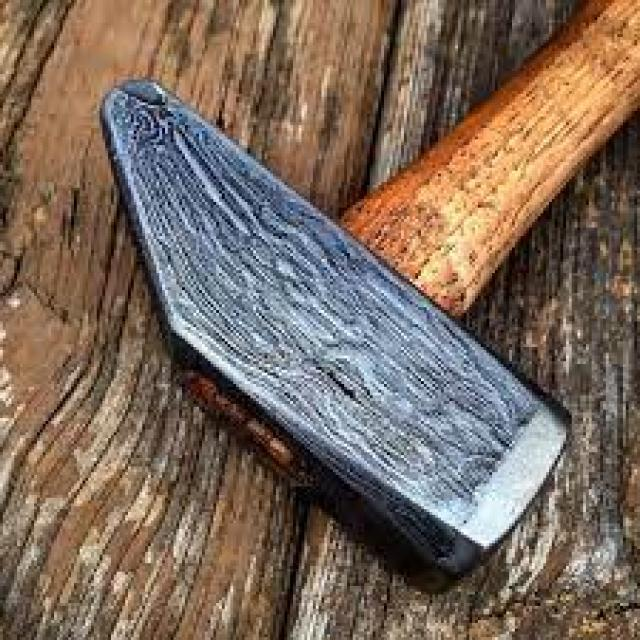hammer: (91, 0, 640, 589)
